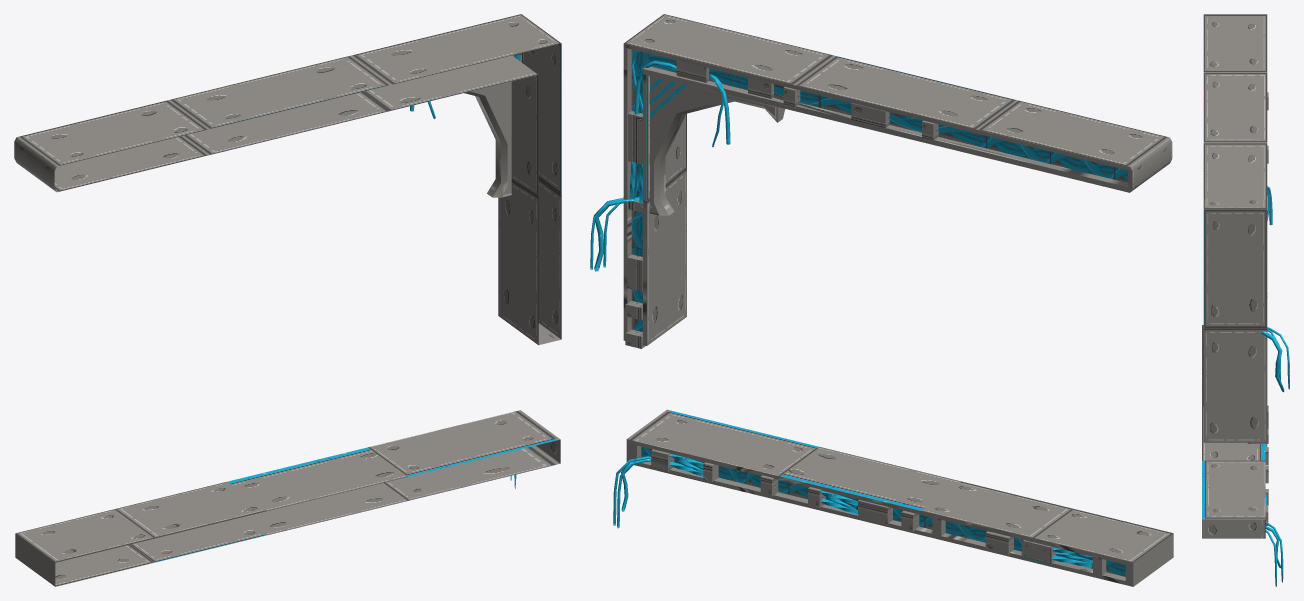
File: SmallCornerFBX.fbx
3 views of the same model, side by side, from view 1: azimuth 30°, elevation 25°; view 2: azimuth 150°, elevation 25°; view 3: azimuth 270°, elevation 25° (orthographic). The views are drawn at different scales.
Visible parts, largest first — view 1: CornerBase5, wallPiece6, Arch2; view 2: CornerBase5, wallPiece6, Arch2, pCube4; view 3: CornerBase5, wallPiece6, CornerWire3 (×2), CornerWire2, CornerWire5, CornerWire1.
Part boxes in pixels (x1=…): CornerBase5: x1=14, y1=14, x2=561, y2=345; wallPiece6: x1=15, y1=410, x2=560, y2=586; Arch2: x1=464, y1=55, x2=514, y2=197; CornerBase5: x1=623, y1=14, x2=1172, y2=345; wallPiece6: x1=626, y1=409, x2=1173, y2=586; Arch2: x1=649, y1=76, x2=785, y2=215; pCube4: x1=628, y1=111, x2=642, y2=164; CornerBase5: x1=1203, y1=14, x2=1267, y2=442; wallPiece6: x1=1202, y1=325, x2=1265, y2=538; CornerWire3 (×2): x1=1265, y1=327, x2=1289, y2=582; CornerWire2: x1=1261, y1=331, x2=1284, y2=392; CornerWire5: x1=1265, y1=530, x2=1276, y2=586; CornerWire1: x1=1267, y1=186, x2=1272, y2=225.
Size of the model in its own units: 22.9 by 19.82 by 4.18.
